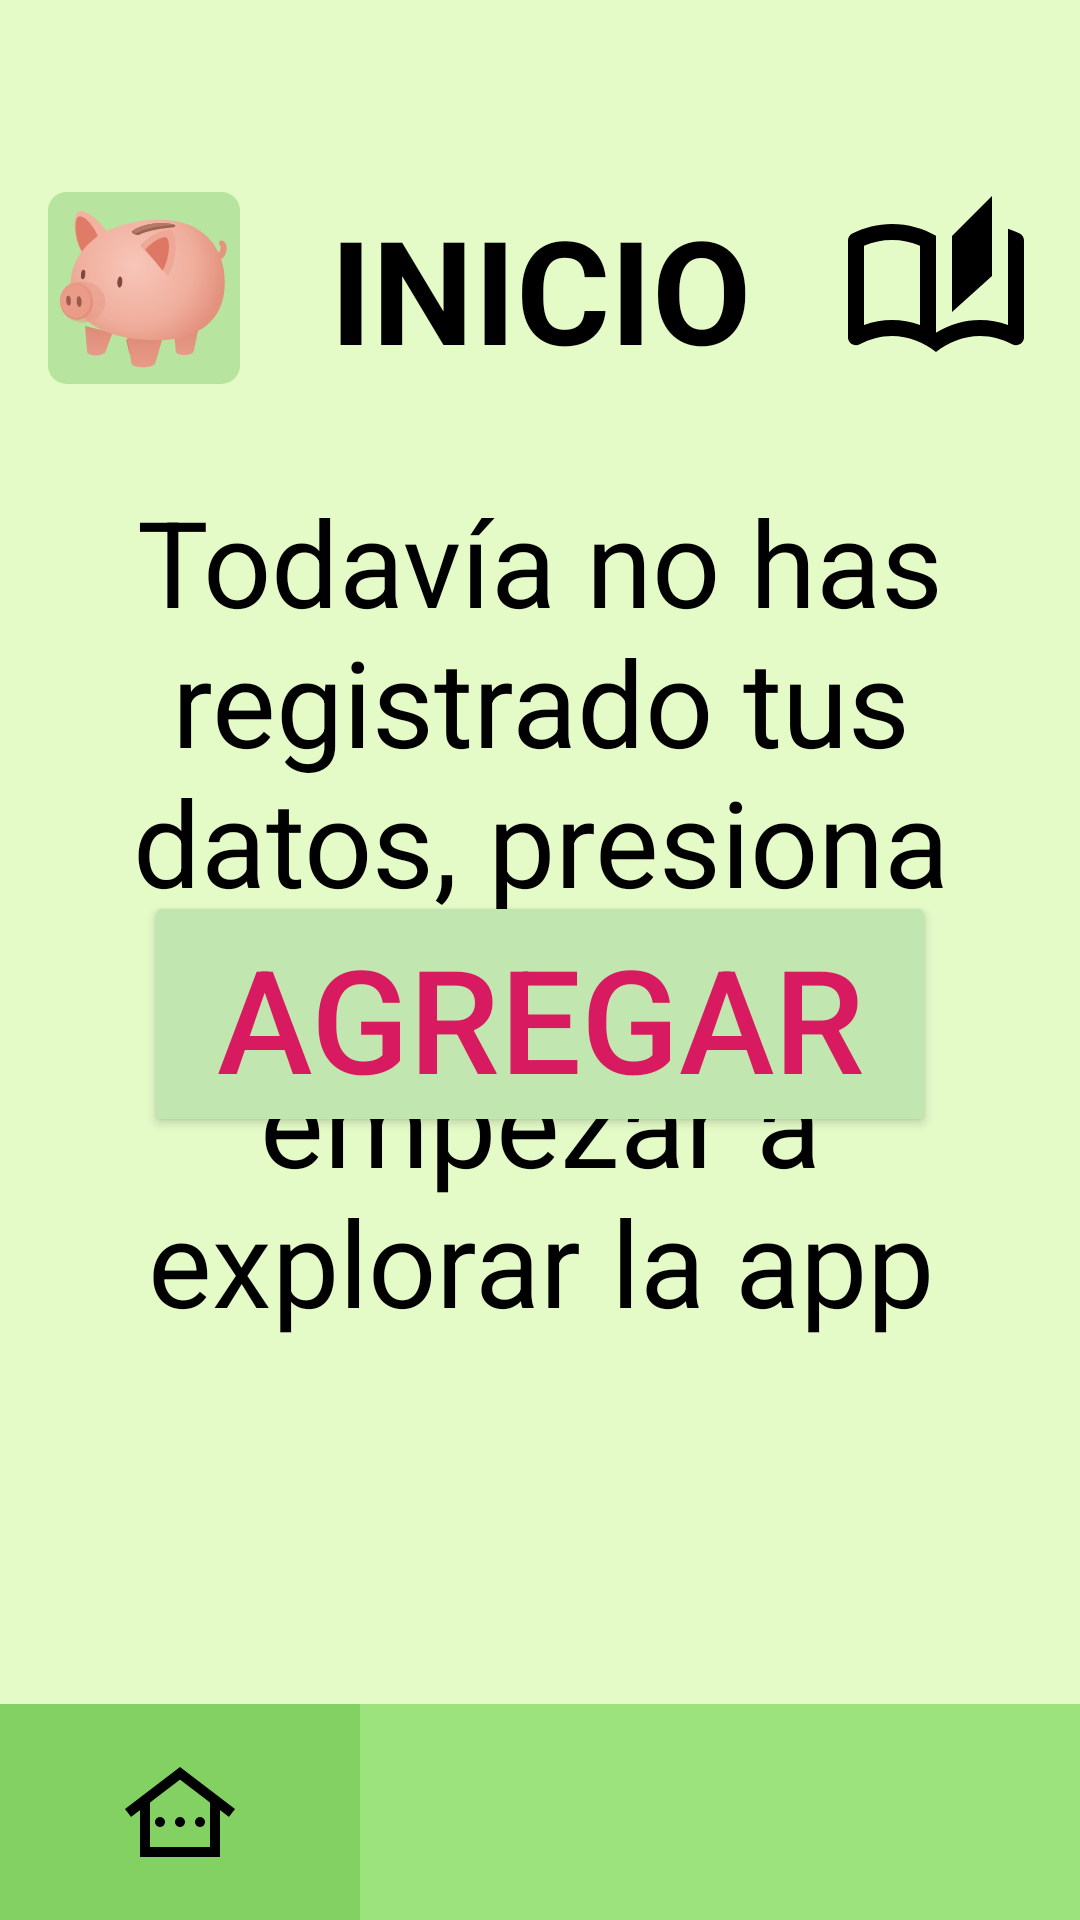

Point at icon controls on the screen. Image size 1080 x 1920, points as (x,y).
Inicio: (180,1812)
libreta: (936,274)
